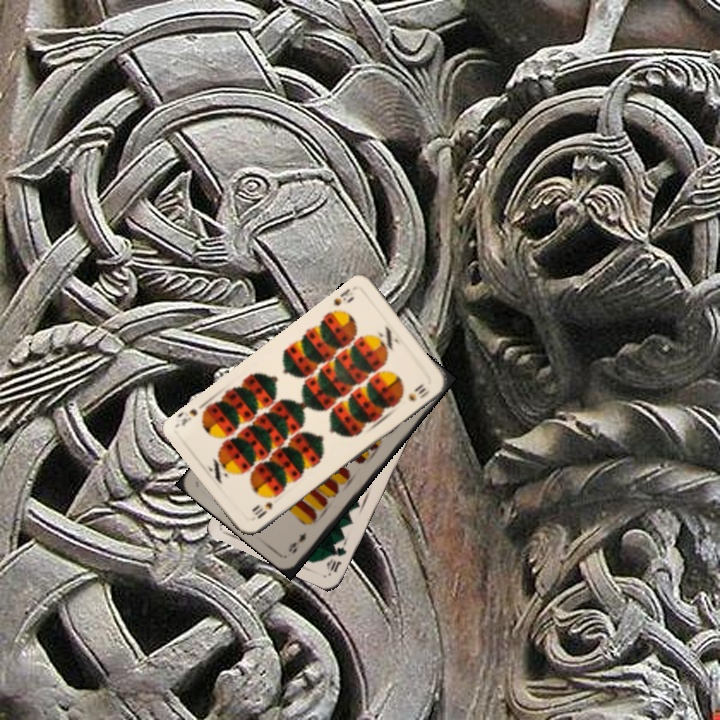E9: (284, 528, 309, 556)
G10: (323, 543, 349, 575)
S10: (329, 283, 359, 308), (250, 498, 275, 521)
